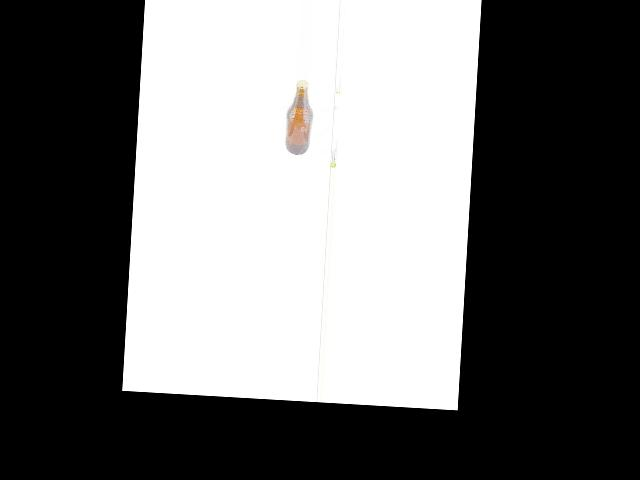beer: (284, 79, 315, 155)
